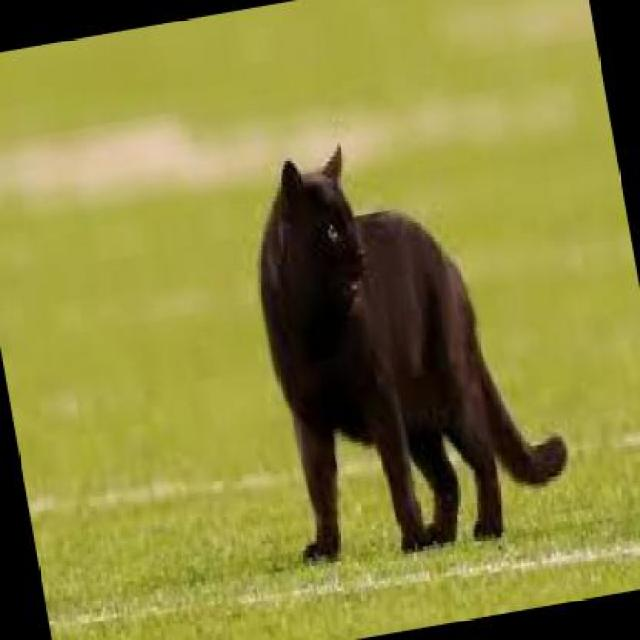animals: (232, 115, 580, 571)
